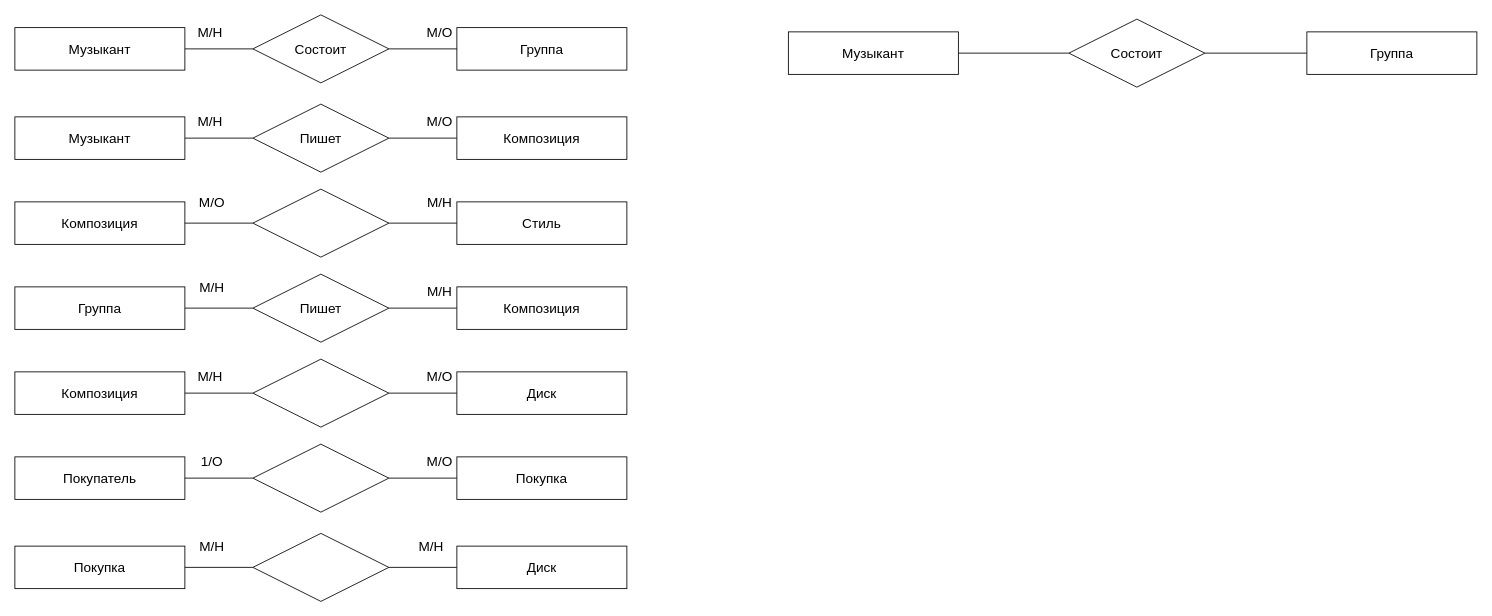
The diagram is 1492 pixels wide and 616 high, and some of its shapes have lost their labels. Here are the shapes that lost their labels. From the top down, the centre of each, then its label:
At pixel 320 222: "Имеет".
At pixel 320 392: "Записана на".
At pixel 320 477: "Совершает".
At pixel 320 567: "Содержит".
